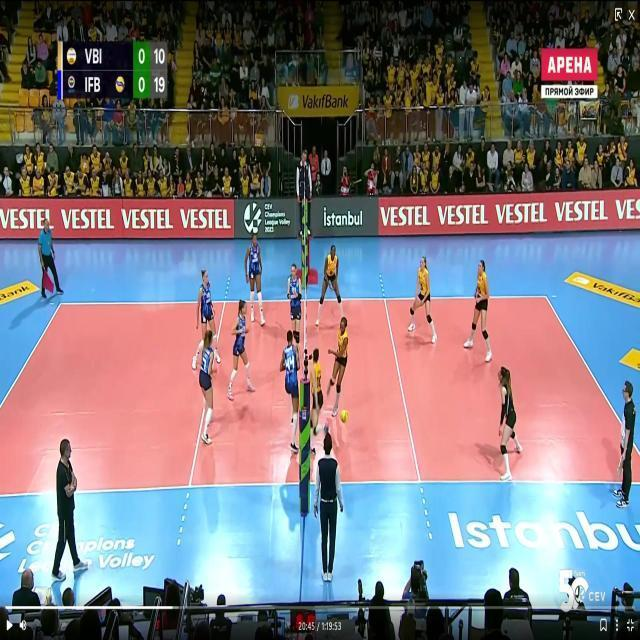volleyball: (340, 409, 348, 421)
